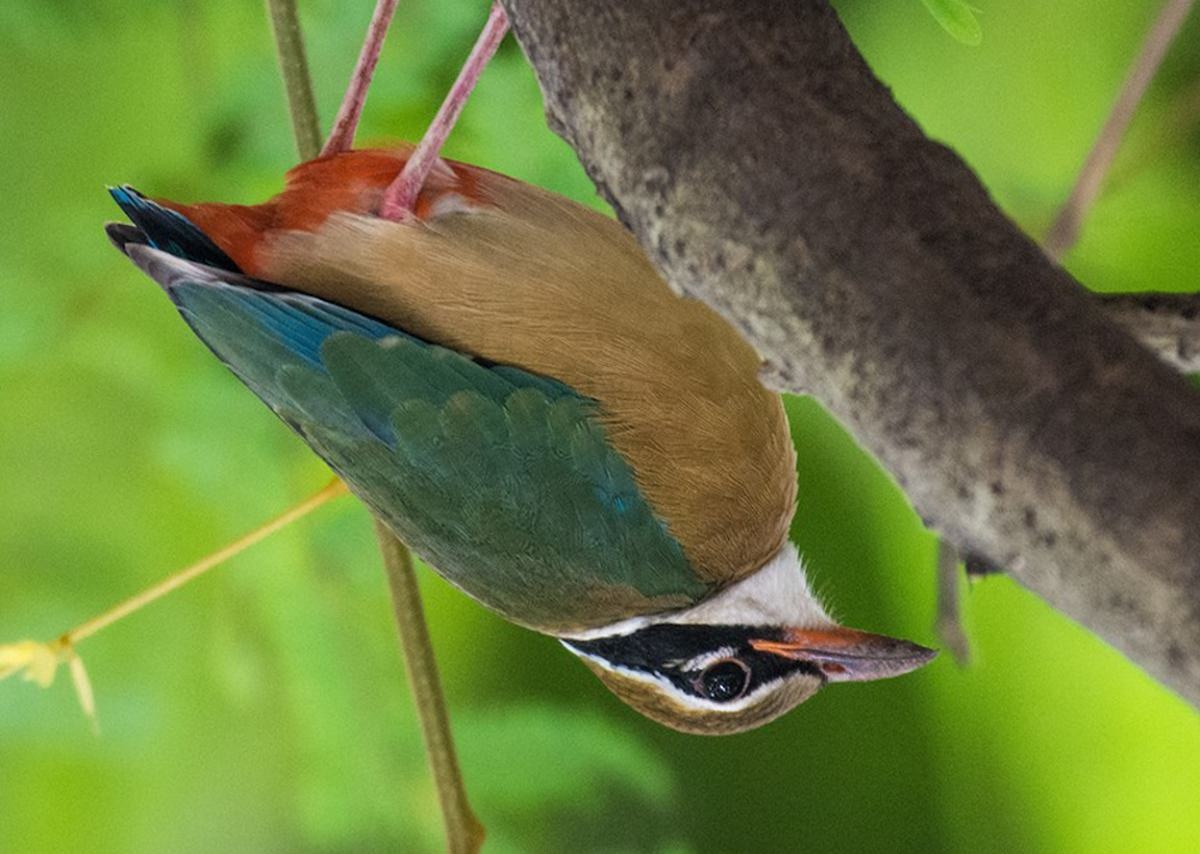pitta: (161, 83, 981, 727)
